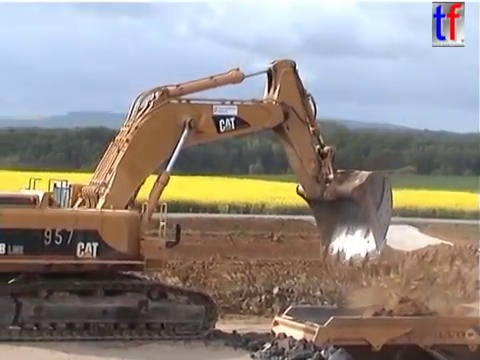excavator: (1, 56, 396, 346)
truck: (267, 298, 480, 360)
